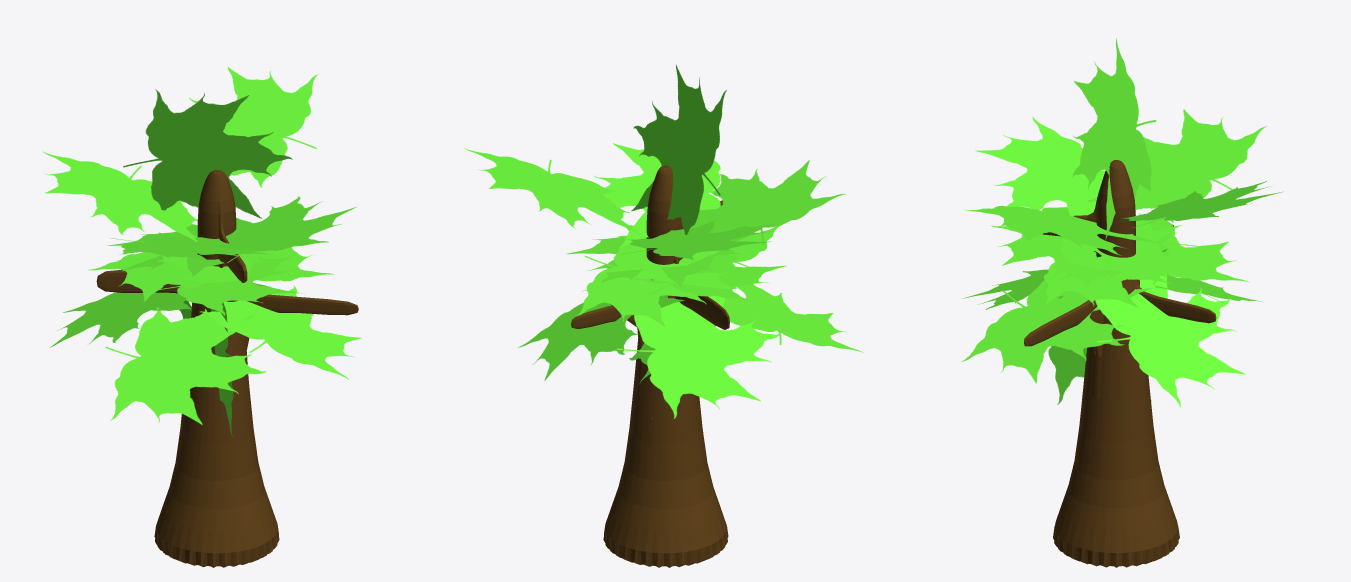
The model's file is tree-test.glb.
The picture shows the model from 3 angles, left to right: view 1: azimuth 30°, elevation 25°; view 2: azimuth 150°, elevation 25°; view 3: azimuth 270°, elevation 25°; orthographic projection.
Visible parts, largest first — view 1: Plane.006 (×13), trunk.003; view 2: Plane.006 (×12), trunk.003; view 3: Plane.006 (×14), trunk.003.
Boxes of the visible parts, bbox=[...] form: Plane.006 (×13): bbox=[42, 67, 361, 437]; trunk.003: bbox=[96, 170, 358, 567]; Plane.006 (×12): bbox=[464, 64, 863, 418]; trunk.003: bbox=[571, 165, 729, 567]; Plane.006 (×14): bbox=[961, 38, 1283, 407]; trunk.003: bbox=[1024, 160, 1216, 567].
Size of the model in its own units: 9.84 by 12.48 by 9.86.
3 materials, 1 textured.
